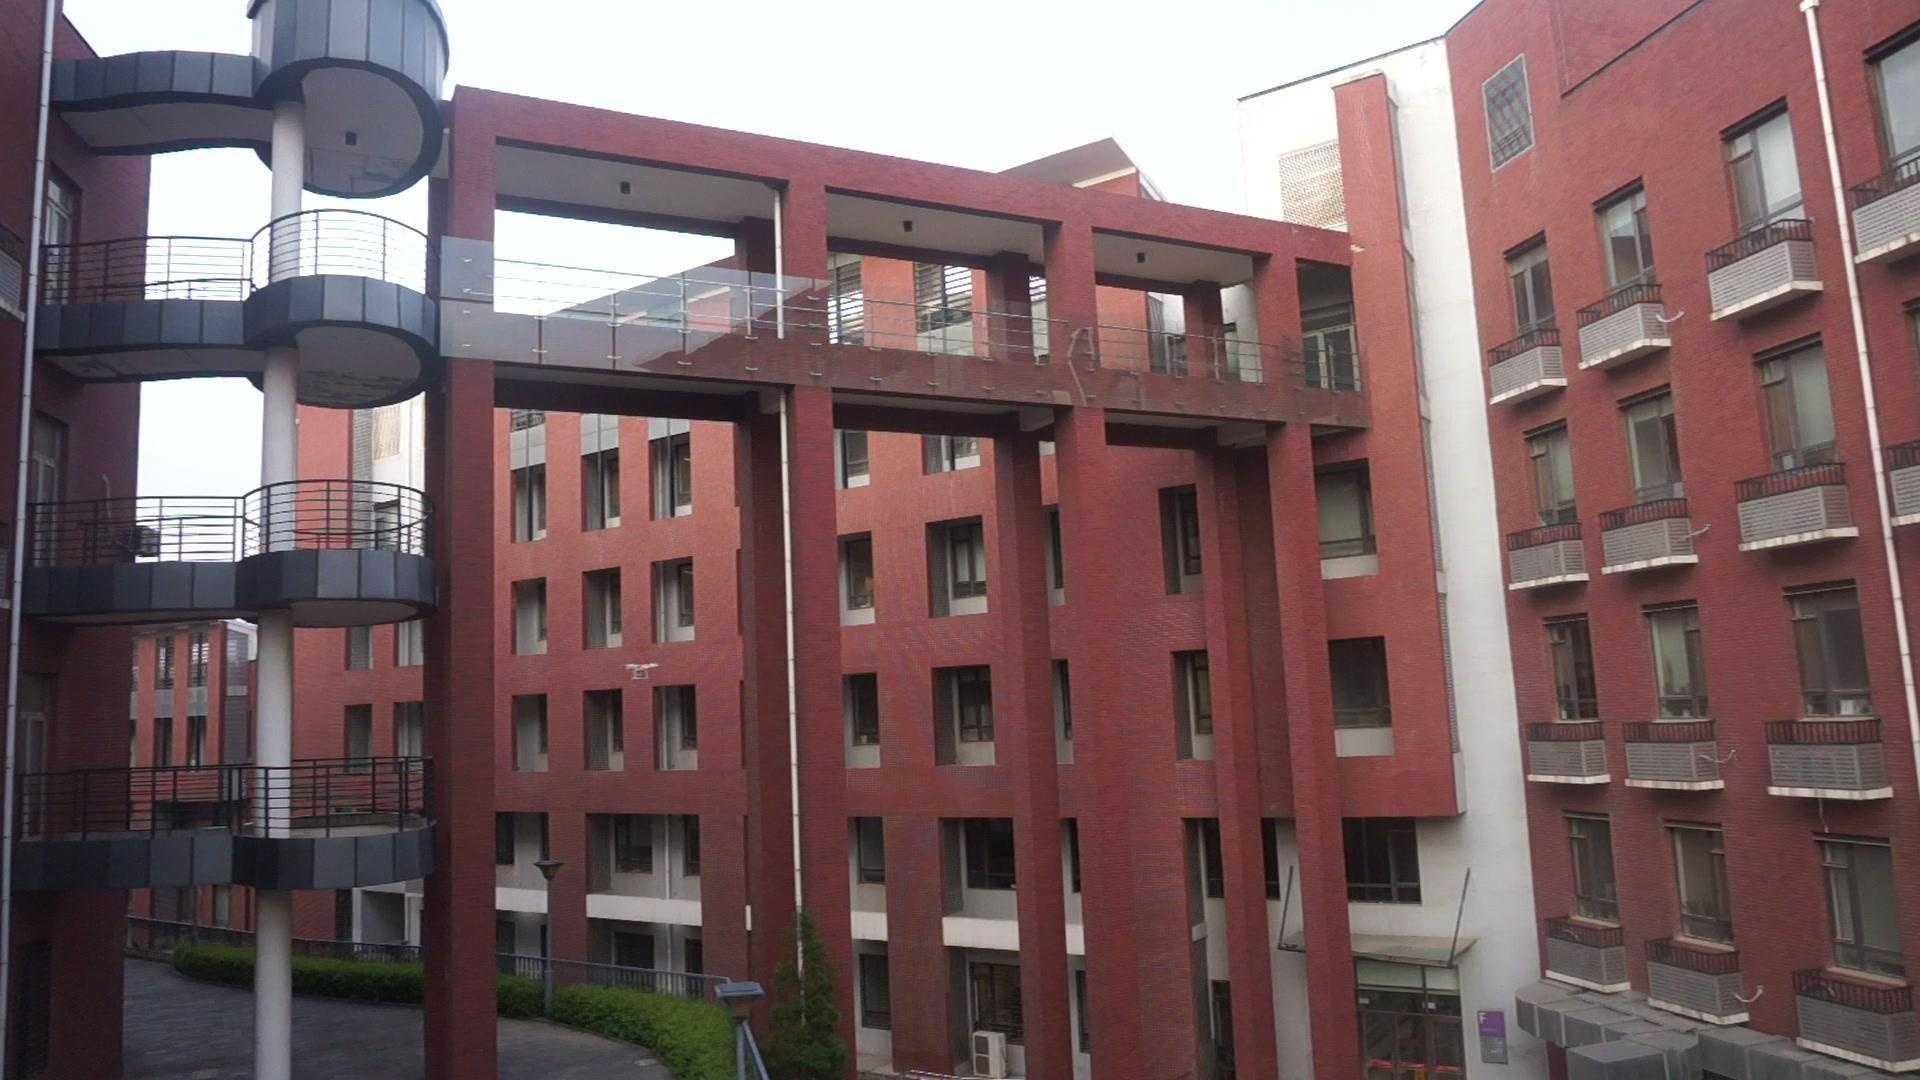UAV: (625, 665, 662, 680)
